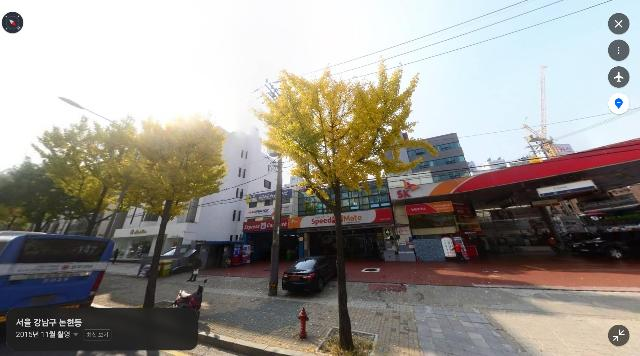ginkgo: (250, 56, 441, 352), (98, 112, 229, 309), (31, 113, 142, 236)
